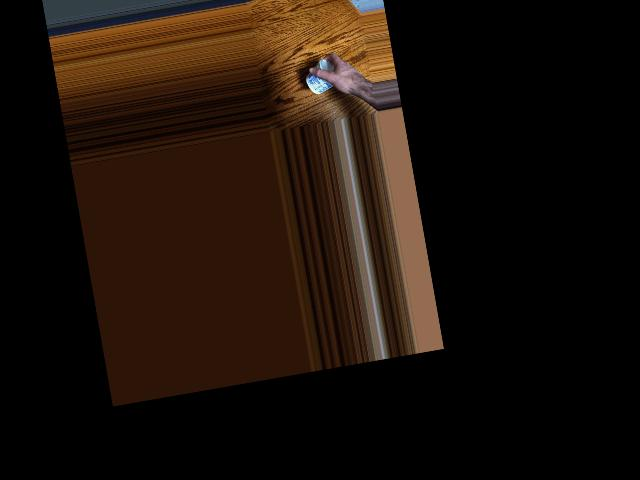cotage: (301, 56, 340, 98)
